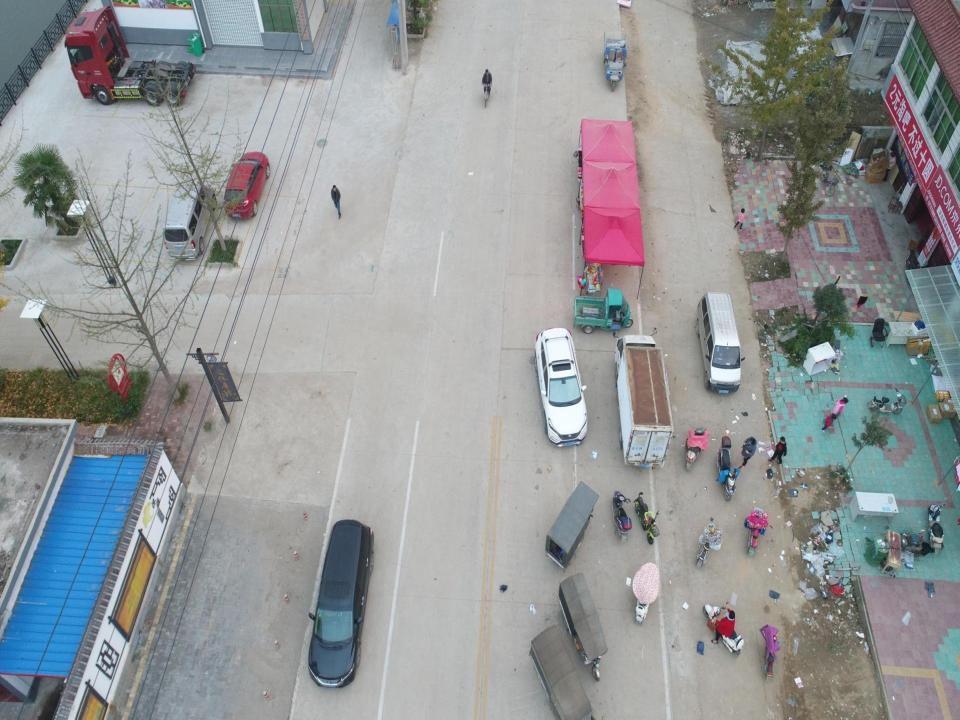car: (308, 519, 378, 689), (531, 322, 590, 451), (223, 150, 271, 218)
van: (696, 288, 746, 394), (162, 171, 214, 260)
